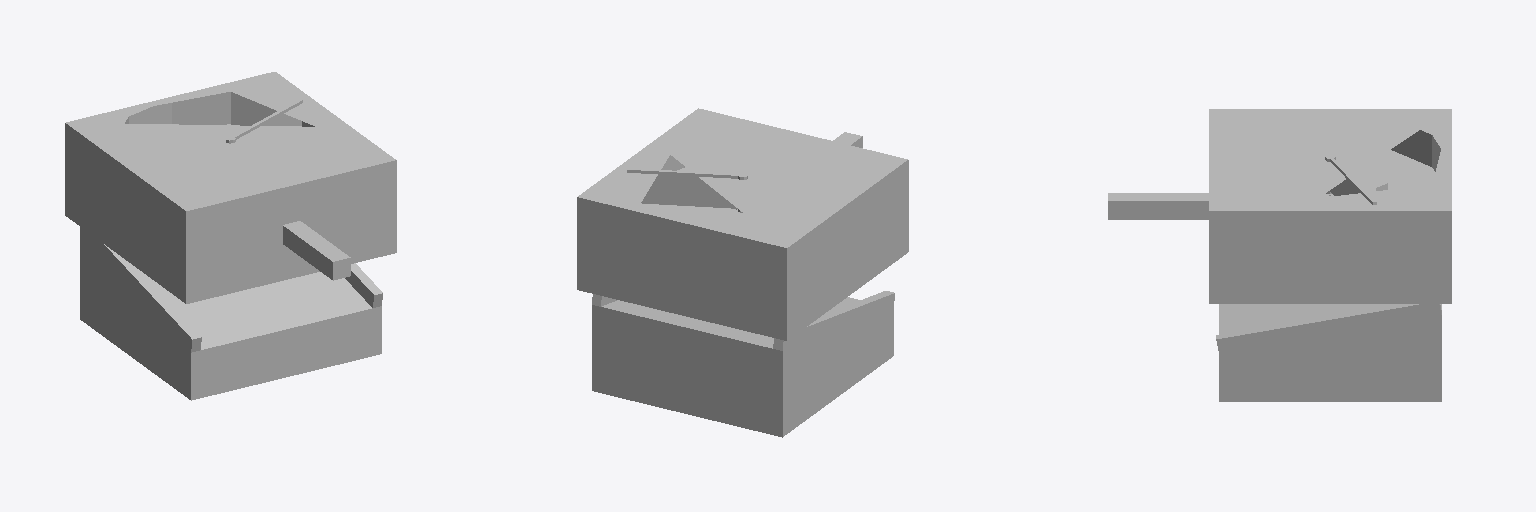
Rendered from phycis.obj.
The picture shows the model from 3 angles: view 1: azimuth 30°, elevation 25°; view 2: azimuth 150°, elevation 25°; view 3: azimuth 270°, elevation 25°; orthographic projection.
Parts seen in each view (by area): view 1: base, base3\, long1, fan; view 2: base, base3\, fan, base2\; view 3: base, base3\, long1, base2\, fan.
Part boxes in pixels (x1,y1,x2,y2): base: (65, 72, 396, 303); base3\: (80, 227, 382, 400); long1: (283, 221, 350, 280); fan: (226, 99, 302, 143); base: (577, 108, 908, 340); base3\: (592, 291, 894, 437); fan: (627, 168, 747, 212); base2\: (645, 167, 758, 227); base: (1209, 109, 1451, 303); base3\: (1216, 304, 1441, 401); long1: (1108, 183, 1387, 219); base2\: (1319, 150, 1434, 197); fan: (1325, 155, 1376, 204).
Bounding box in the file's own units: 45.8 × 41.3 × 64.82.